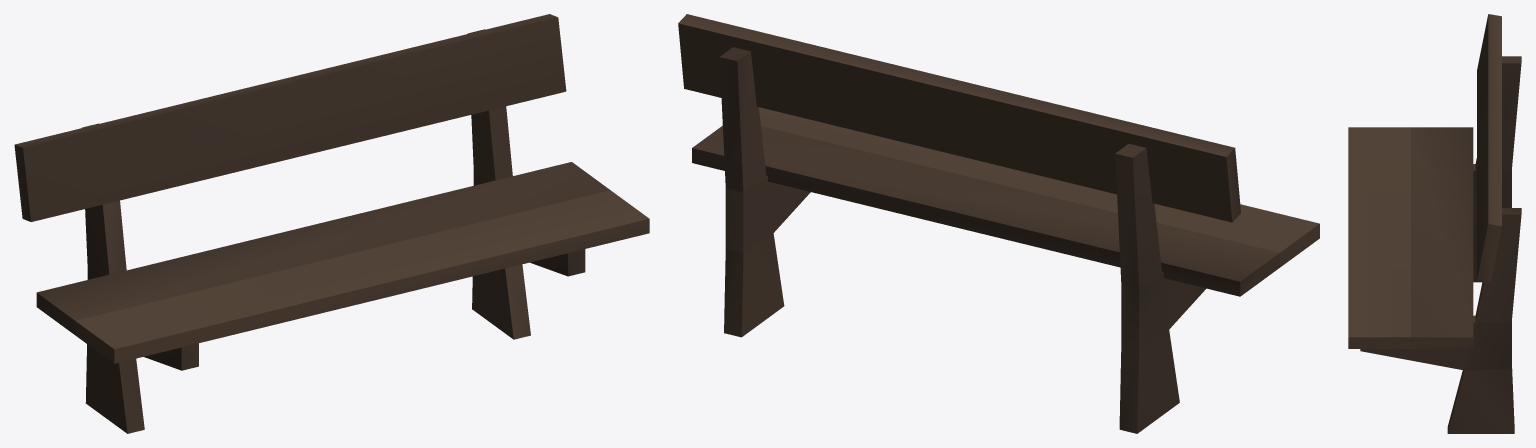
The model's file is ConcreteBench_Medium.fbx.
The picture shows the model from 3 angles, left to right: view 1: azimuth 30°, elevation 25°; view 2: azimuth 150°, elevation 25°; view 3: azimuth 270°, elevation 25°; orthographic projection. The views are drawn at different scales.
Visible parts, largest first — view 1: ConcreteBench_Medium; view 2: ConcreteBench_Medium; view 3: ConcreteBench_Medium.
Boxes of the visible parts, x1=… form: ConcreteBench_Medium: x1=14, y1=14, x2=649, y2=433; ConcreteBench_Medium: x1=678, y1=14, x2=1319, y2=433; ConcreteBench_Medium: x1=1348, y1=14, x2=1521, y2=433.
Bounding box in the file's own units: 214 × 109 × 73.97.
